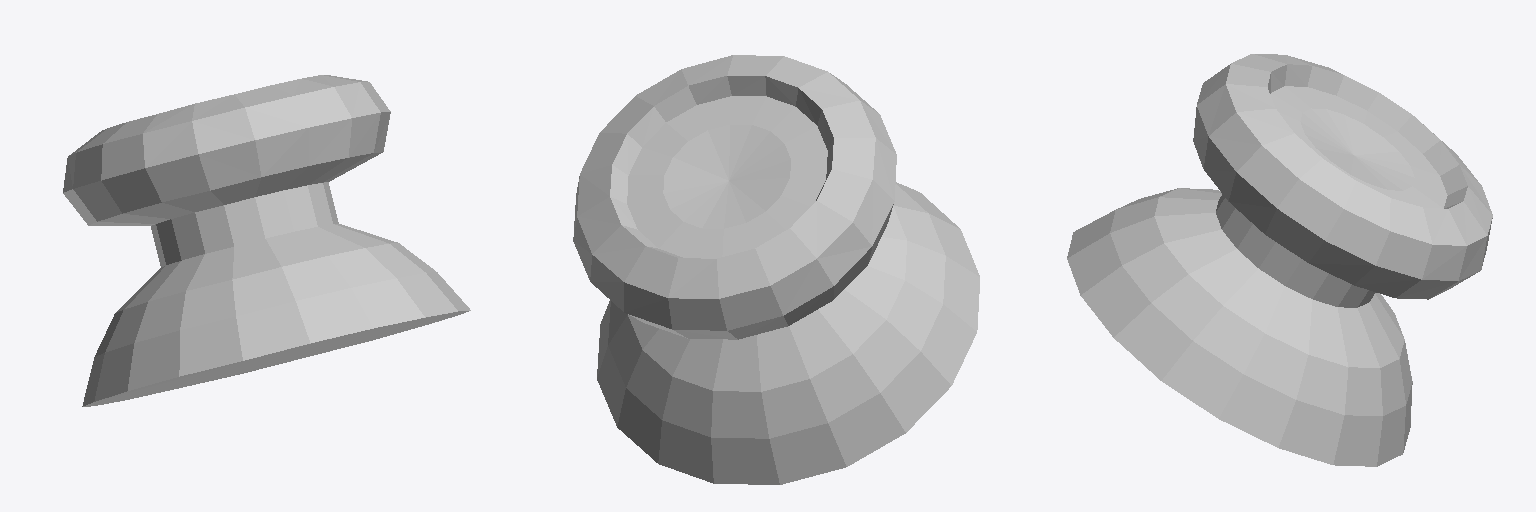
The model's file is thumbstick.obj.
3 renders of one model, left to right at view 1: azimuth 30°, elevation 25°; view 2: azimuth 150°, elevation 25°; view 3: azimuth 270°, elevation 25°, orthographic.
Parts seen in each view (by area): view 1: r_thumbstick; view 2: r_thumbstick; view 3: r_thumbstick.
Part boxes in pixels (x1,y1,x2,y2): r_thumbstick: (63,75,470,406); r_thumbstick: (573,55,979,484); r_thumbstick: (1067,54,1492,466).
Bounding box in the file's own units: 0.015 × 0.0147 × 0.016.